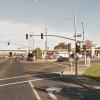Traffic light: (22, 32, 46, 45)
